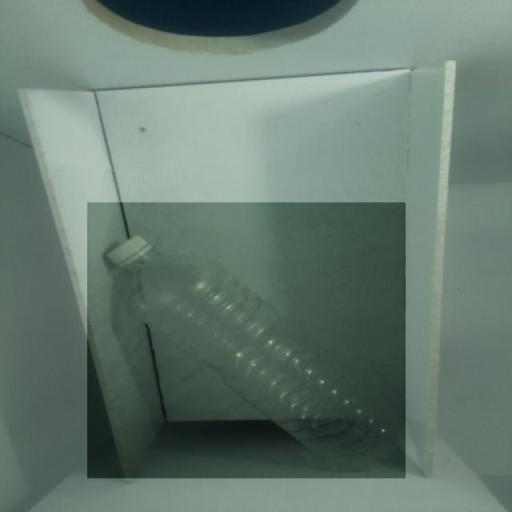plastic: (87, 202, 406, 480)
